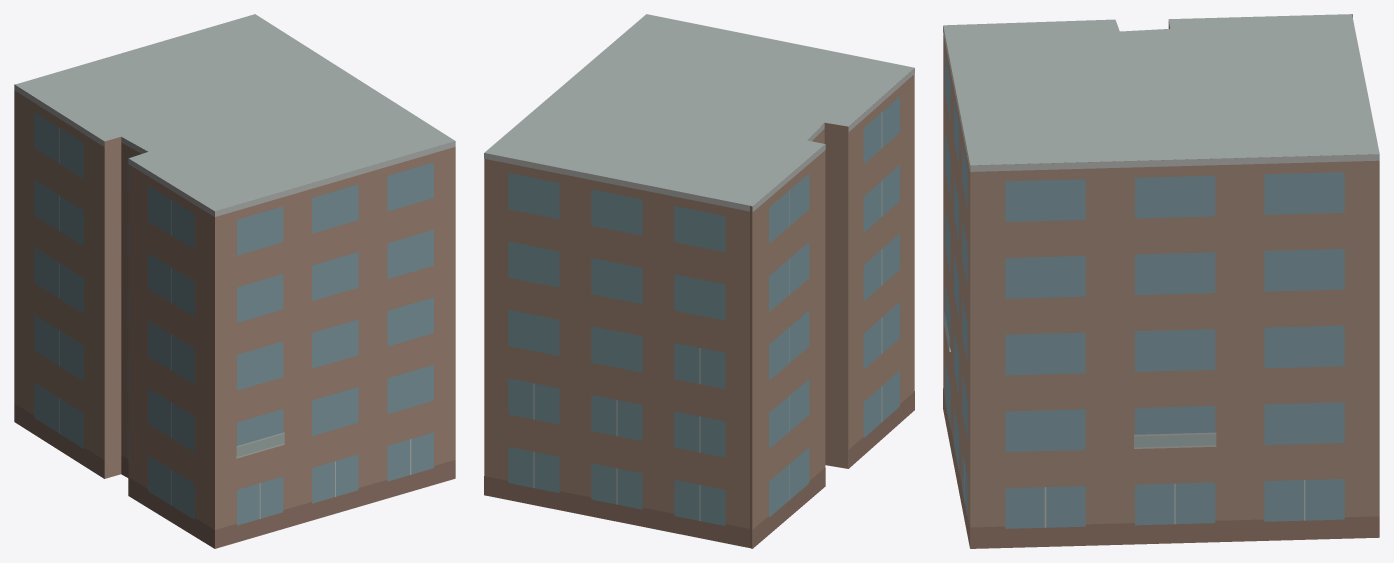
File: survey-upis-32913752.glb
3 renders of one model, left to right at view 1: azimuth 30°, elevation 25°; view 2: azimuth 150°, elevation 25°; view 3: azimuth 270°, elevation 25°, orthographic. The views are drawn at different scales.
Parts seen in each view (by area): view 1: survey-upis-32913752.tmp; view 2: survey-upis-32913752.tmp; view 3: survey-upis-32913752.tmp.
Part boxes in pixels (x1,y1,x2,y2): survey-upis-32913752.tmp: (14, 14, 455, 548); survey-upis-32913752.tmp: (484, 14, 914, 548); survey-upis-32913752.tmp: (943, 14, 1379, 548).
Bounding box in the file's own units: 12.06 × 14.24 × 14.71.
